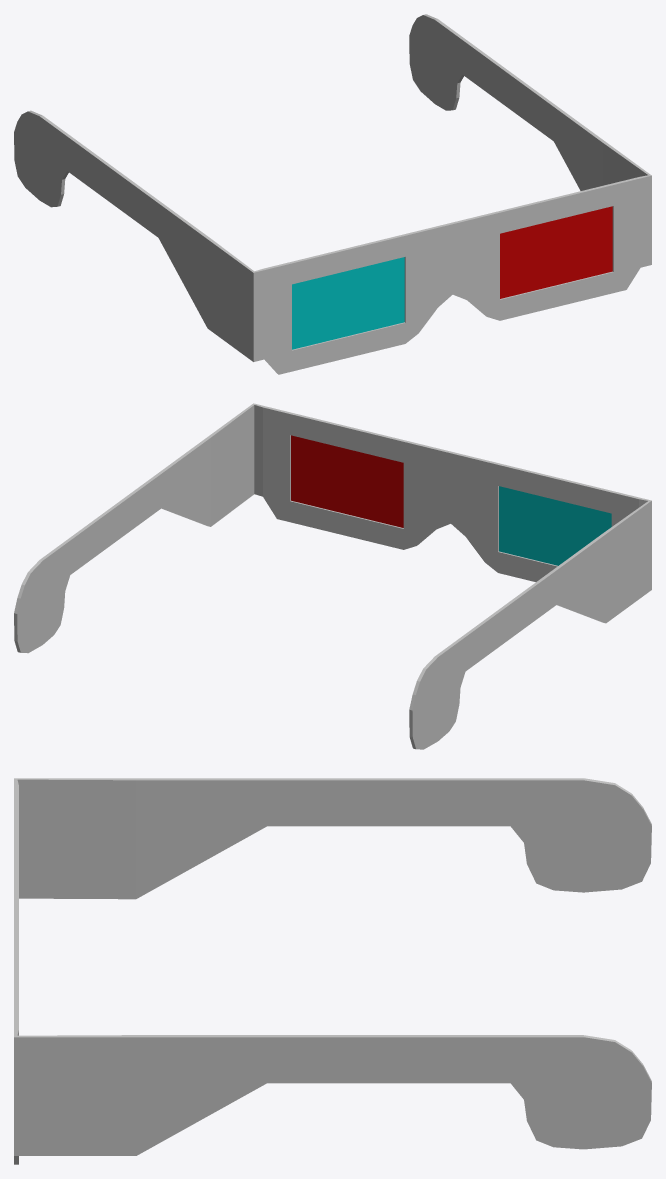
File: DemoGlasses.obj
The picture shows the model from 3 angles, top to bottom: view 1: azimuth 30°, elevation 25°; view 2: azimuth 150°, elevation 25°; view 3: azimuth 270°, elevation 25°; orthographic projection. The views are drawn at different scales.
Visible parts, largest first — view 1: 3d_glasses_Plane, 3d_glasses_red_Plane.001, 3d_glasses_cyan_Plane.002; view 2: 3d_glasses_Plane, 3d_glasses_red_Plane.001, 3d_glasses_cyan_Plane.002; view 3: 3d_glasses_Plane.
Part boxes in pixels (box(x1,y1,x2,y2)): 3d_glasses_Plane: box(14, 14, 651, 374); 3d_glasses_red_Plane.001: box(500, 206, 612, 298); 3d_glasses_cyan_Plane.002: box(292, 257, 404, 349); 3d_glasses_Plane: box(14, 403, 651, 749); 3d_glasses_red_Plane.001: box(291, 435, 403, 527); 3d_glasses_cyan_Plane.002: box(499, 486, 611, 565); 3d_glasses_Plane: box(14, 778, 651, 1164).
Bounding box in the file's own units: 6.18 × 1.6 × 6.43.
